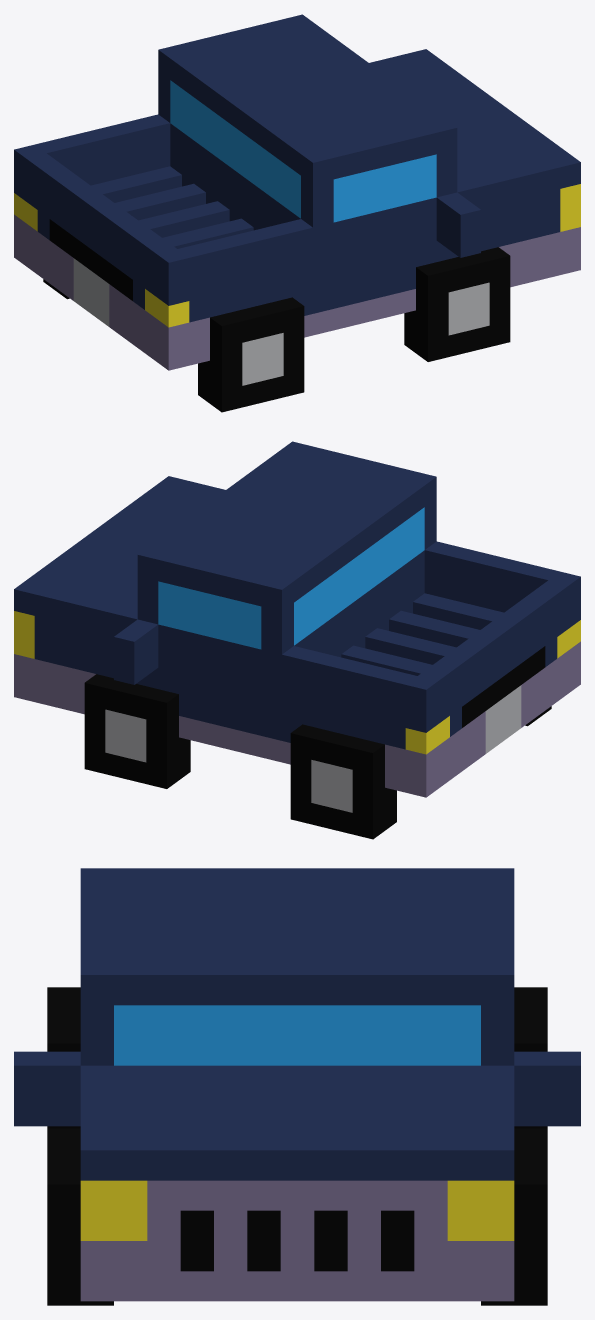
Rendered from pickup_c.obj.
3 renders of one model, top to bottom at view 1: azimuth 30°, elevation 25°; view 2: azimuth 150°, elevation 25°; view 3: azimuth 270°, elevation 25°, orthographic. The views are drawn at different scales.
Bounding box in the file's own units: 2 × 1 × 1.7.
1 material, 1 textured.
